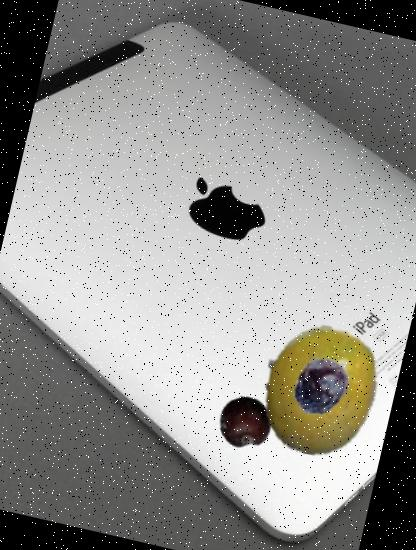Dates: (284, 351, 356, 423)
Maracuja: (241, 312, 398, 469)
Plum: (214, 391, 276, 453)
